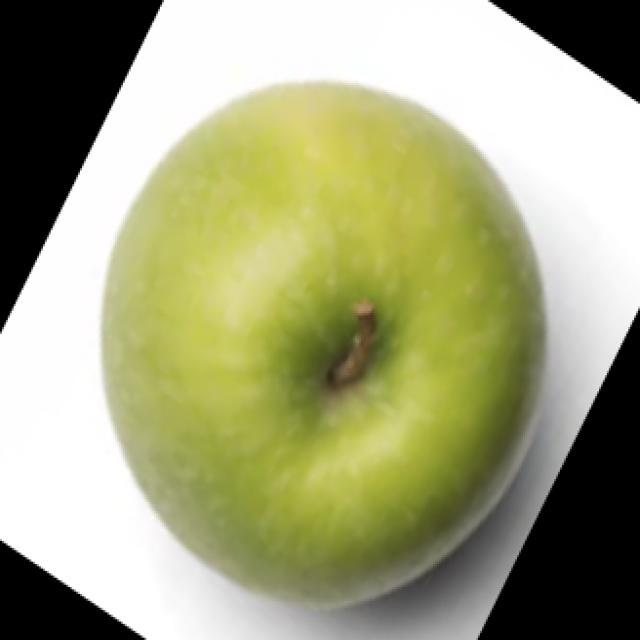Fresh Apple: (91, 74, 554, 620)
